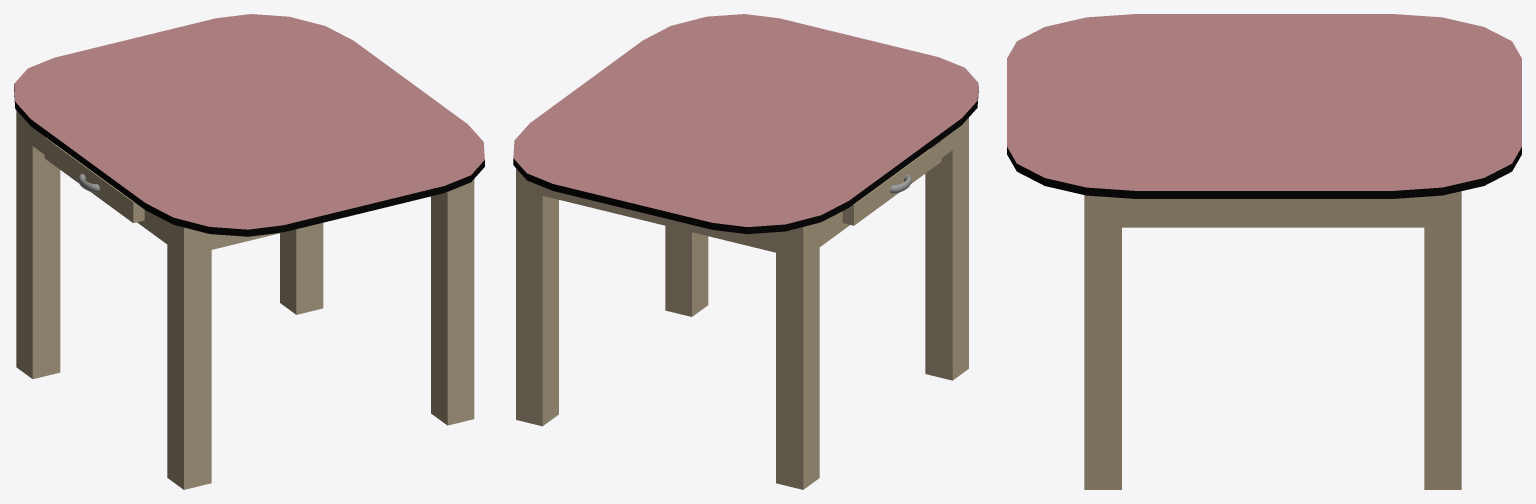
File: Table2.fbx
3 views of the same model, side by side, from view 1: azimuth 30°, elevation 25°; view 2: azimuth 150°, elevation 25°; view 3: azimuth 270°, elevation 25° (orthographic). The views are drawn at different scales.
Parts seen in each view (by area): view 1: pCube2, pCube1; view 2: pCube2, pCube1; view 3: pCube2, pCube1.
Part boxes in pixels (box(x1,y1,x2,y2)): pCube2: box(14, 14, 484, 236); pCube1: box(16, 110, 474, 489); pCube2: box(513, 14, 978, 234); pCube1: box(516, 118, 968, 489); pCube2: box(1007, 14, 1521, 198); pCube1: box(1084, 191, 1461, 489).
Bounding box in the file's own units: 5.3 × 4.25 × 6.43.
